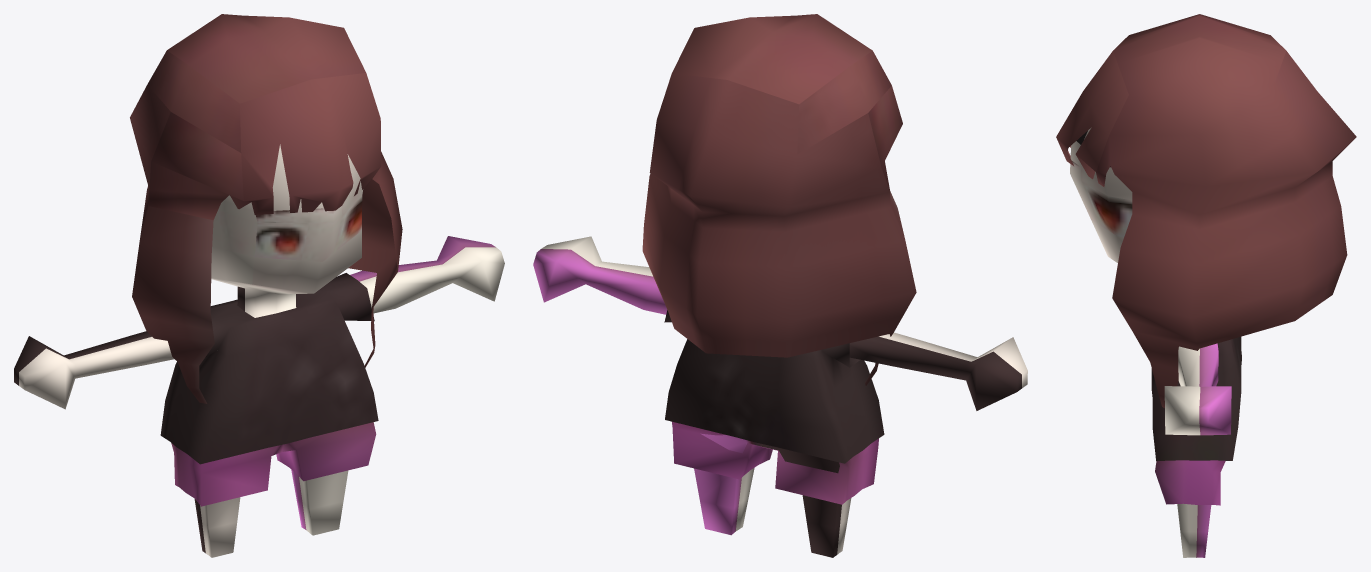
The model's file is tesheadxdxdxd222.glb.
The picture shows the model from 3 angles, left to right: view 1: azimuth 30°, elevation 25°; view 2: azimuth 150°, elevation 25°; view 3: azimuth 270°, elevation 25°; orthographic projection. The views are drawn at different scales.
Visible parts, largest first — view 1: Cube.001, Cube, Cube.002, Cube.003; view 2: Cube.001, Cube.002, Cube, Cube.003; view 3: Cube.001, Cube, Cube.002, Cube.003.
Boxes of the visible parts, box(x1,y1,x2,y2) form: Cube.001: box(130, 14, 402, 403); Cube: box(14, 144, 504, 557); Cube.002: box(160, 273, 378, 464); Cube.003: box(171, 422, 376, 506); Cube.001: box(642, 14, 916, 385); Cube.002: box(664, 310, 884, 463); Cube: box(533, 236, 1027, 557); Cube.003: box(672, 421, 878, 504); Cube.001: box(1056, 14, 1356, 408); Cube: box(1070, 127, 1231, 557); Cube.002: box(1151, 336, 1241, 460); Cube.003: box(1155, 460, 1225, 505).
Bounding box in the file's own units: 4.93 × 5.05 × 2.76.
Materials: 2 (2 with a texture image).
